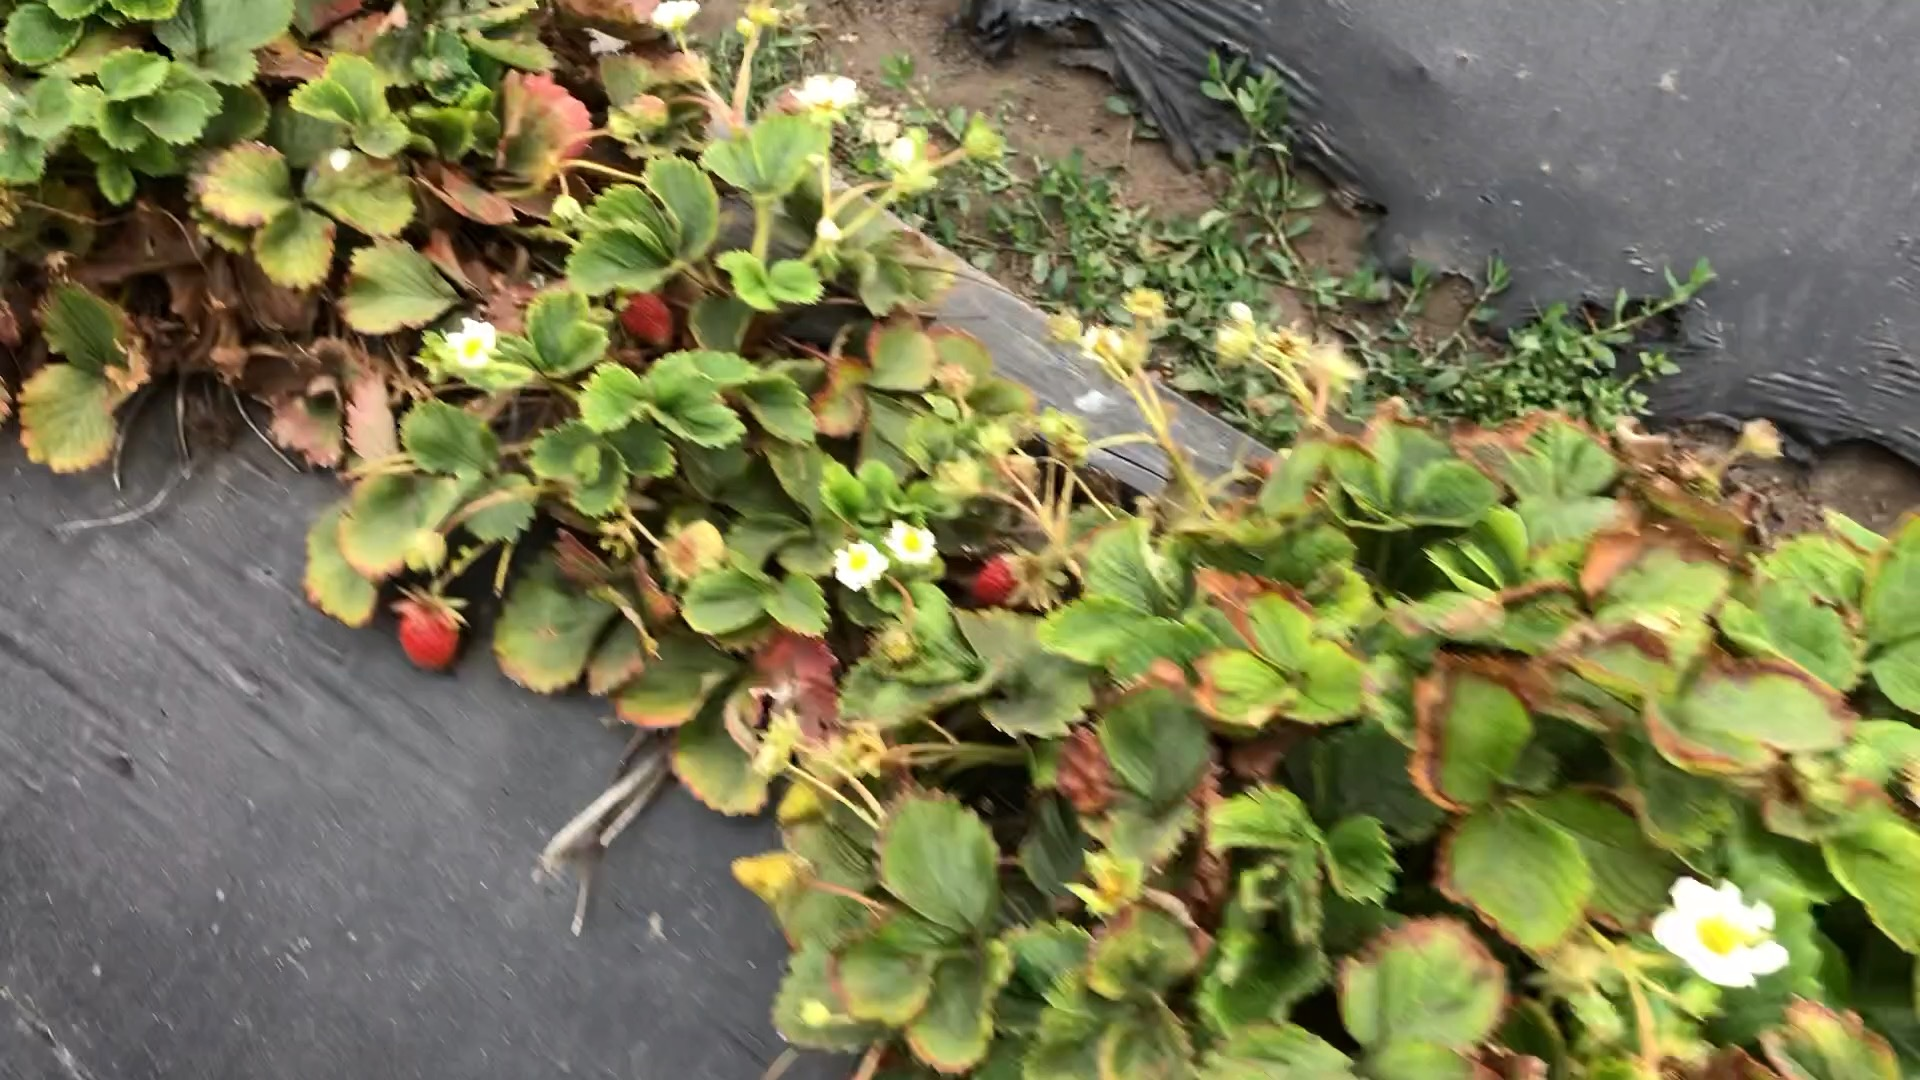ripe_strawberry: (392, 593, 464, 676), (971, 550, 1038, 607), (620, 290, 679, 352)
unripe_strawberry: (729, 847, 811, 903), (775, 775, 823, 833)
